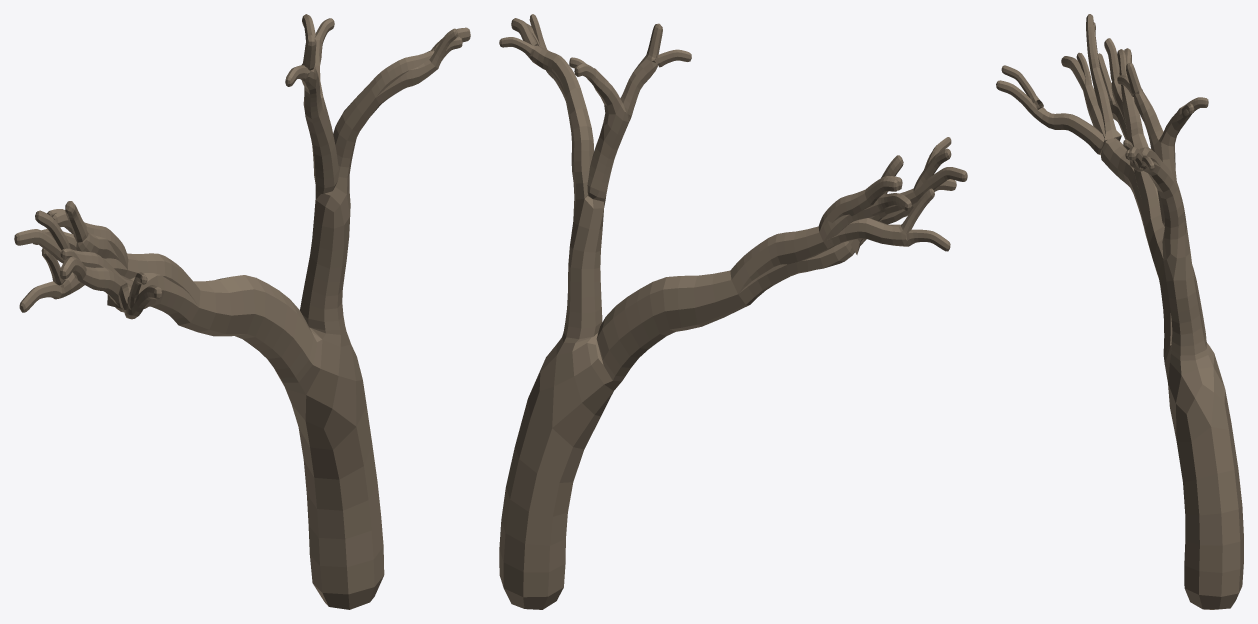
Rendered from willow.glb.
3 renders of one model, left to right at view 1: azimuth 30°, elevation 25°; view 2: azimuth 150°, elevation 25°; view 3: azimuth 270°, elevation 25°, orthographic. The views are drawn at different scales.
Visible parts, largest first — view 1: tree; view 2: tree; view 3: tree.
Part boxes in pixels (x1,y1,x2,y2): tree: [14, 14, 470, 609]; tree: [499, 14, 967, 609]; tree: [996, 14, 1243, 609].
Bounding box in the file's own units: 3.6 × 4.5 × 1.98.
